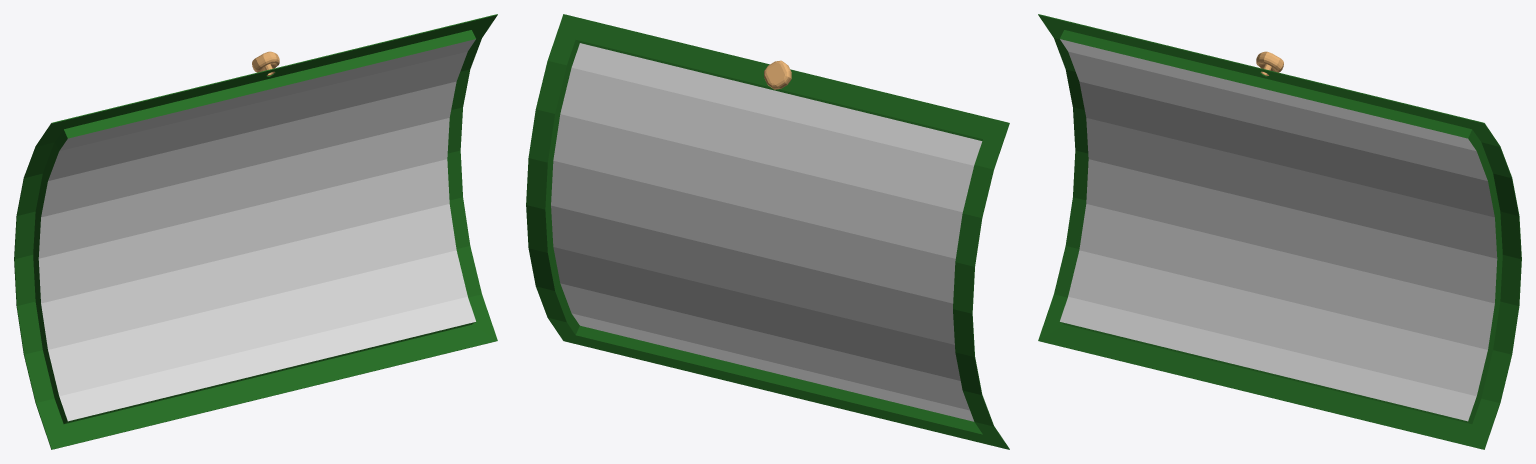
The model's file is door1_lever_mechanical_room.glb.
3 renders of one model, left to right at view 1: azimuth 30°, elevation 25°; view 2: azimuth 150°, elevation 25°; view 3: azimuth 330°, elevation 25°, orthographic.
Visible parts, largest first — view 1: Turn mechanism_door 1.001; view 2: Turn mechanism_door 1.001; view 3: Turn mechanism_door 1.001.
Part boxes in pixels (bbox=[...]): Turn mechanism_door 1.001: bbox=[14, 14, 497, 449]; Turn mechanism_door 1.001: bbox=[526, 14, 1009, 449]; Turn mechanism_door 1.001: bbox=[1038, 14, 1521, 449].
Size of the model in its own units: 0.5712 by 0.4146 by 0.0837.
